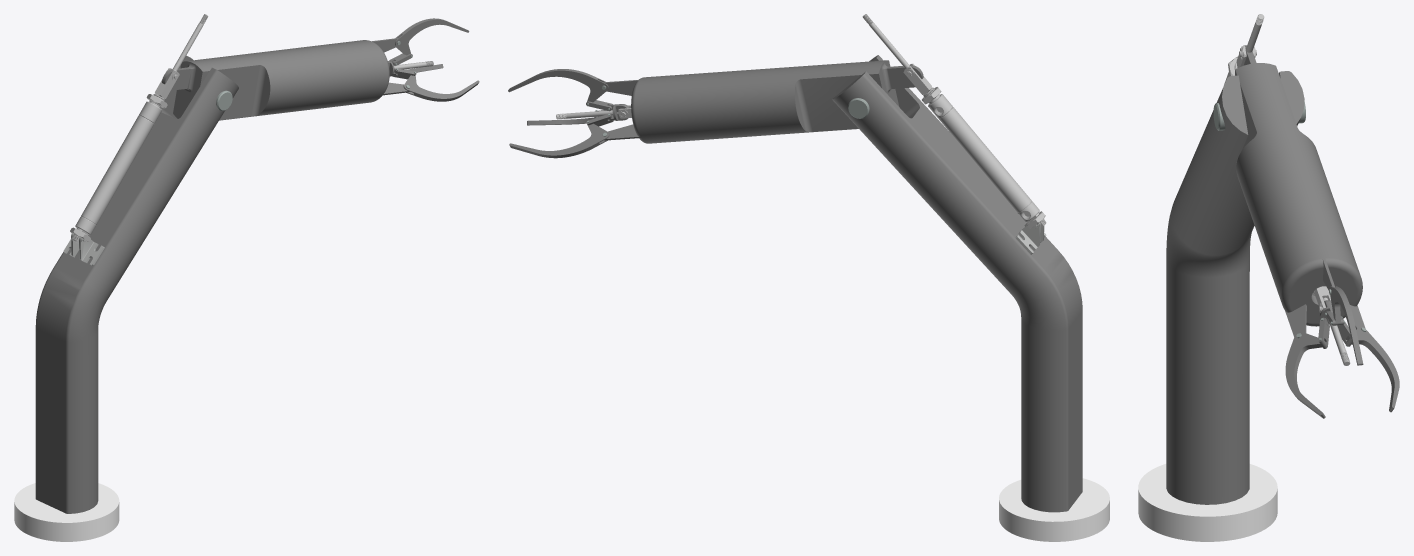
Rendered from agroarm-transformed.glb.
3 views of the same model, side by side, from view 1: azimuth 30°, elevation 25°; view 2: azimuth 150°, elevation 25°; view 3: azimuth 270°, elevation 25° (orthographic). The views are drawn at different scales.
Visible parts, largest first — view 1: Boss-Extrude2 2 - Part; view 2: Boss-Extrude2 2 - Part; view 3: Boss-Extrude2 2 - Part.
Boxes of the visible parts, x1,y1,x2,y2 form: Boss-Extrude2 2 - Part: (14, 14, 479, 541); Boss-Extrude2 2 - Part: (508, 14, 1109, 541); Boss-Extrude2 2 - Part: (1138, 14, 1399, 541).
Size of the model in its own units: 0.7044 by 0.6039 by 0.2382.
1 material, 1 textured.
